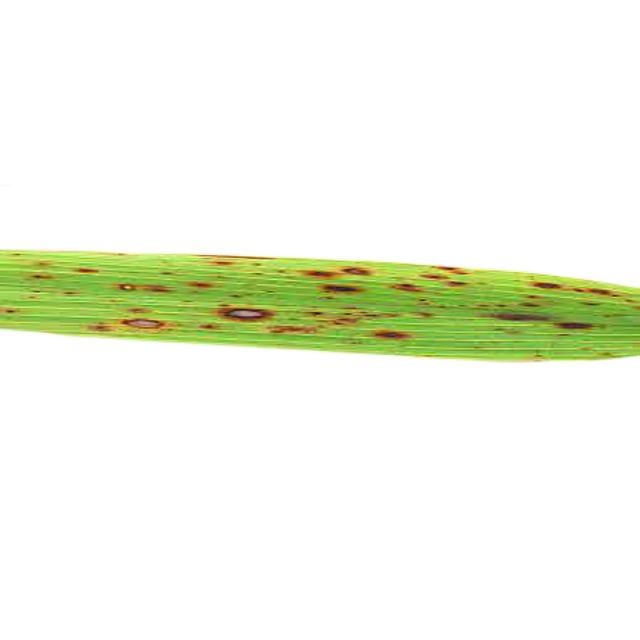Brown spot: (0, 176, 640, 397)
